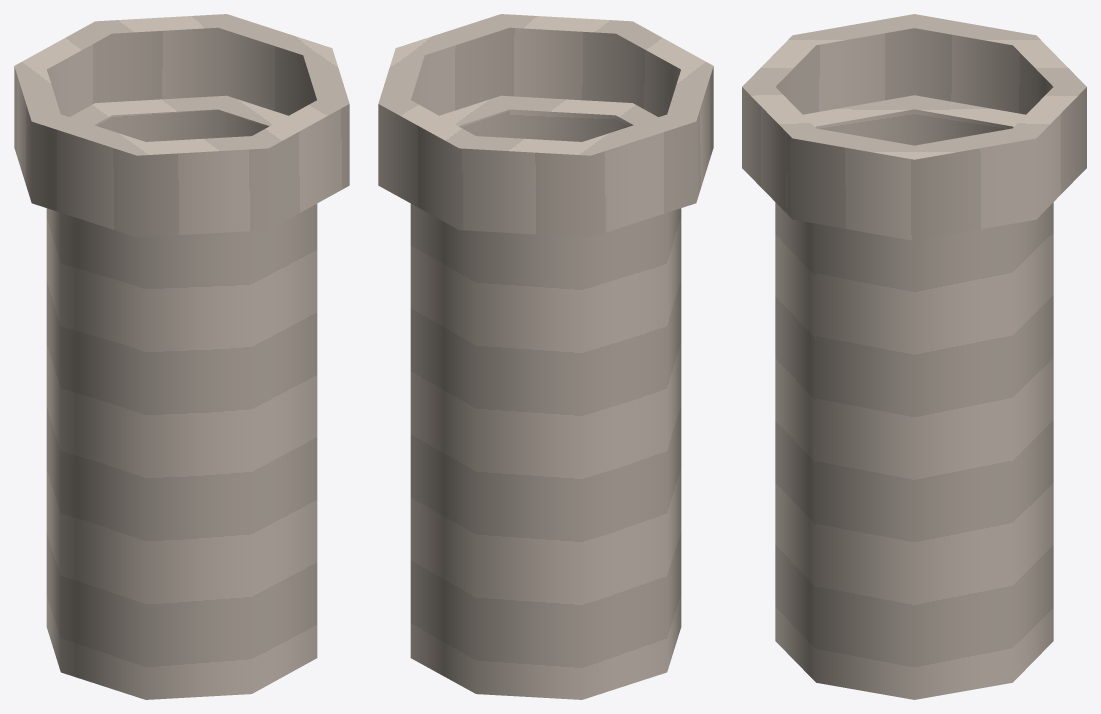
Rendered from Props_Pipe.fbx.
3 renders of one model, left to right at view 1: azimuth 30°, elevation 25°; view 2: azimuth 150°, elevation 25°; view 3: azimuth 270°, elevation 25°, orthographic.
Parts seen in each view (by area): view 1: Pipe; view 2: Pipe; view 3: Pipe.
Boxes of the visible parts, box(x1,y1,x2,y2) form: Pipe: box(14, 14, 349, 699); Pipe: box(378, 14, 713, 699); Pipe: box(742, 14, 1086, 699).
Size of the model in its own units: 0.7443 by 1.32 by 0.7443.
